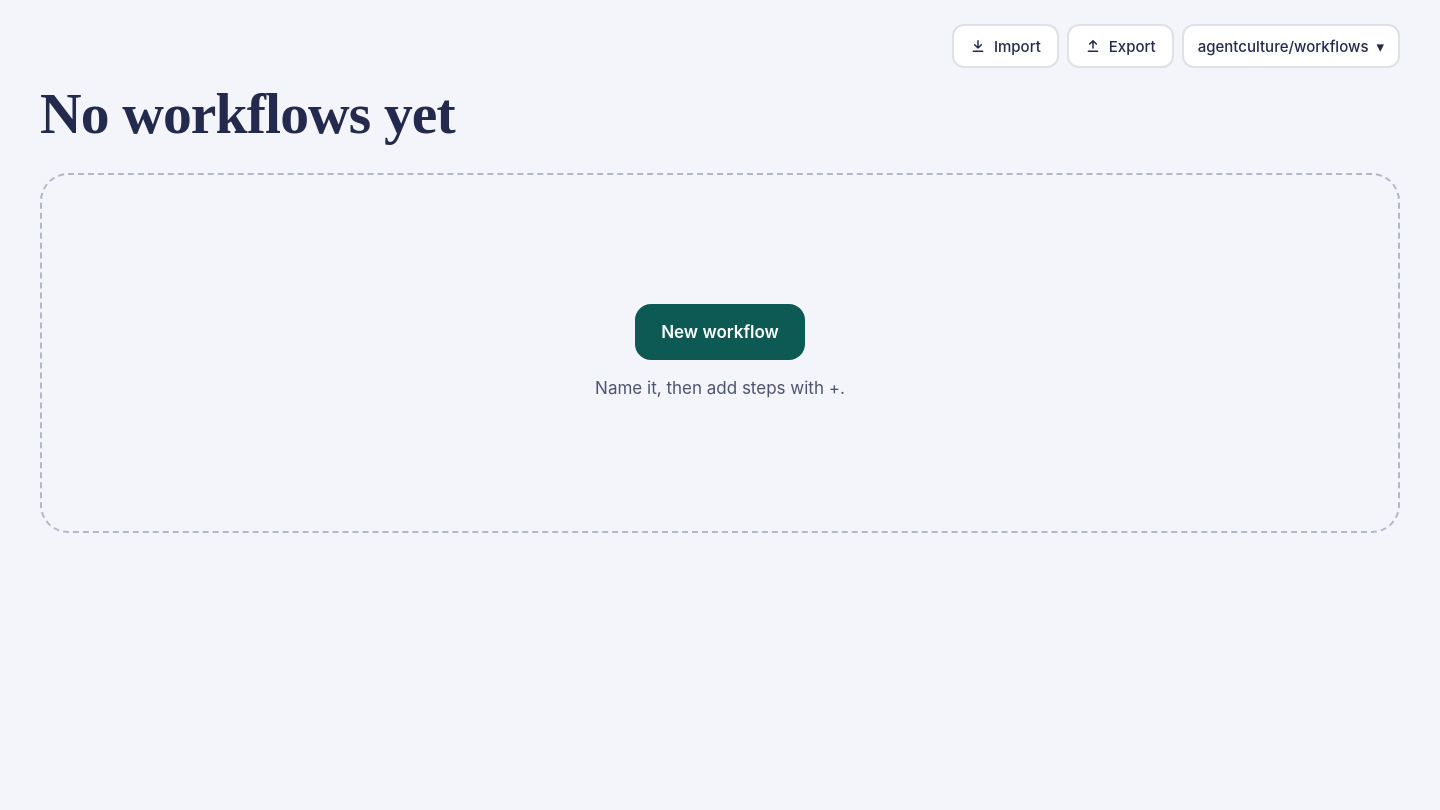
Workflows tab: New workflow (empty state) › an id held by a deleted workflow (409) moves on to the next free id
Click the button "New workflow": (720, 332) [635,304,805,360]
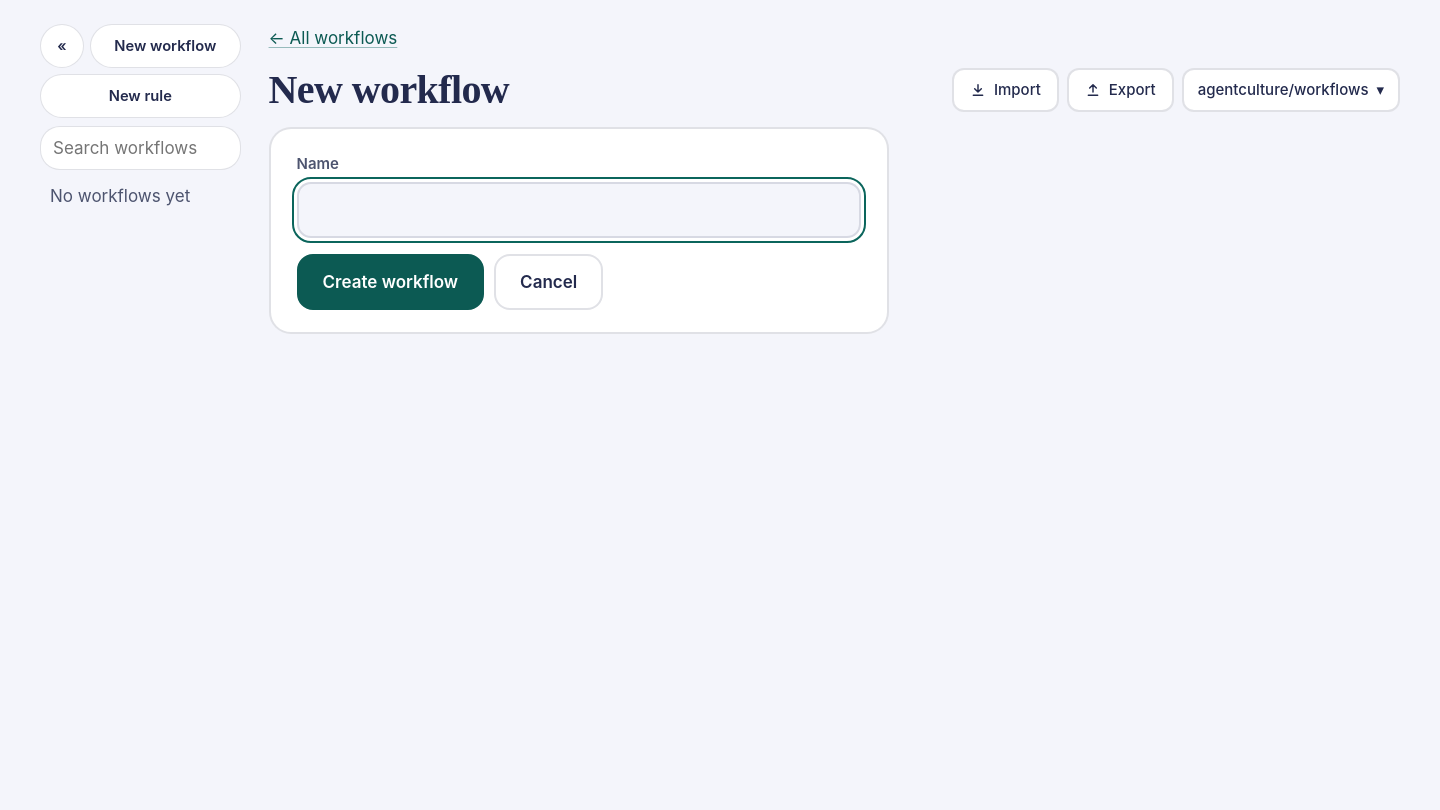
In the field labelled "Name": (579, 210) [297,182,861,238], type "Triage"
Then press Enter
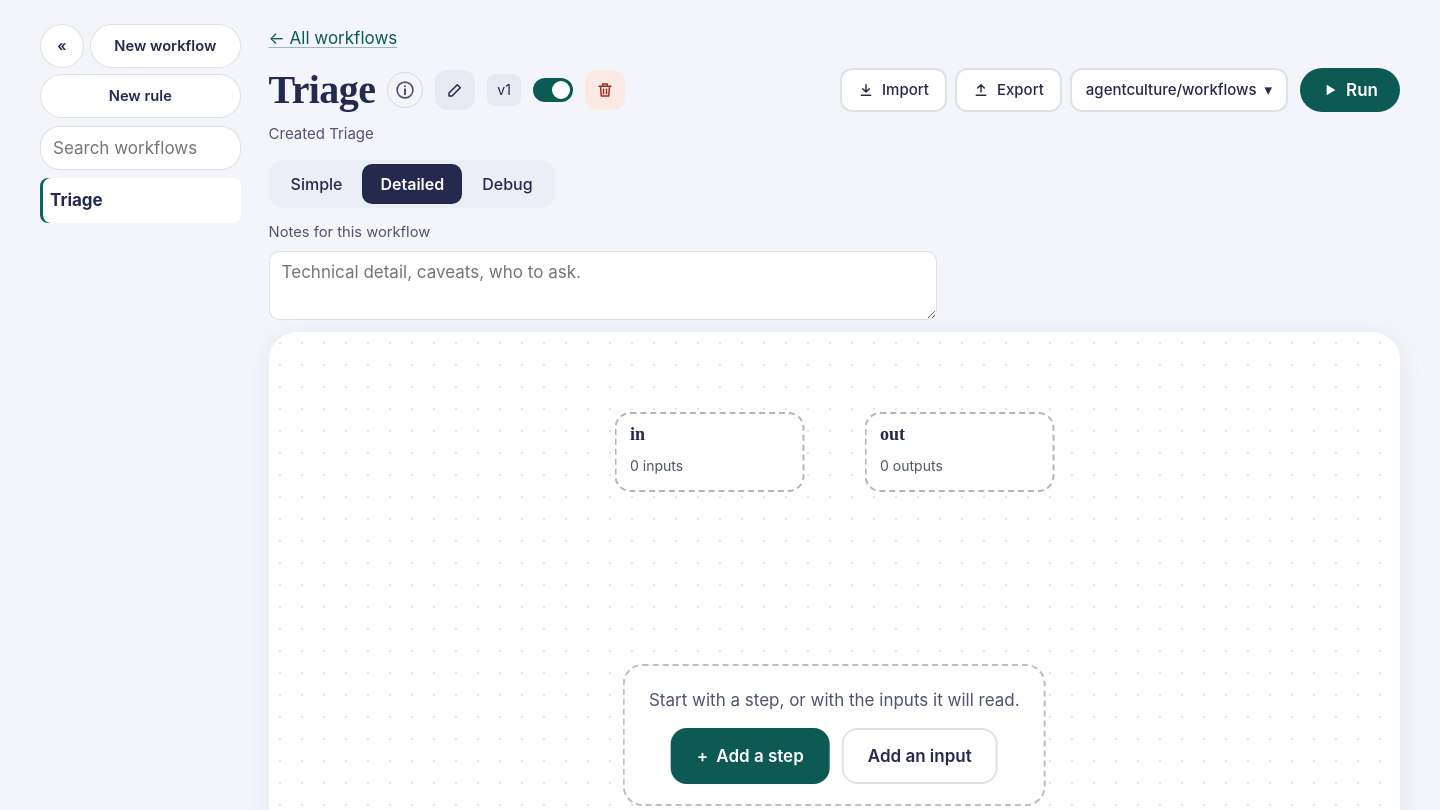
Expected: the heading "Triage" is shown, [269,67,375,113]
